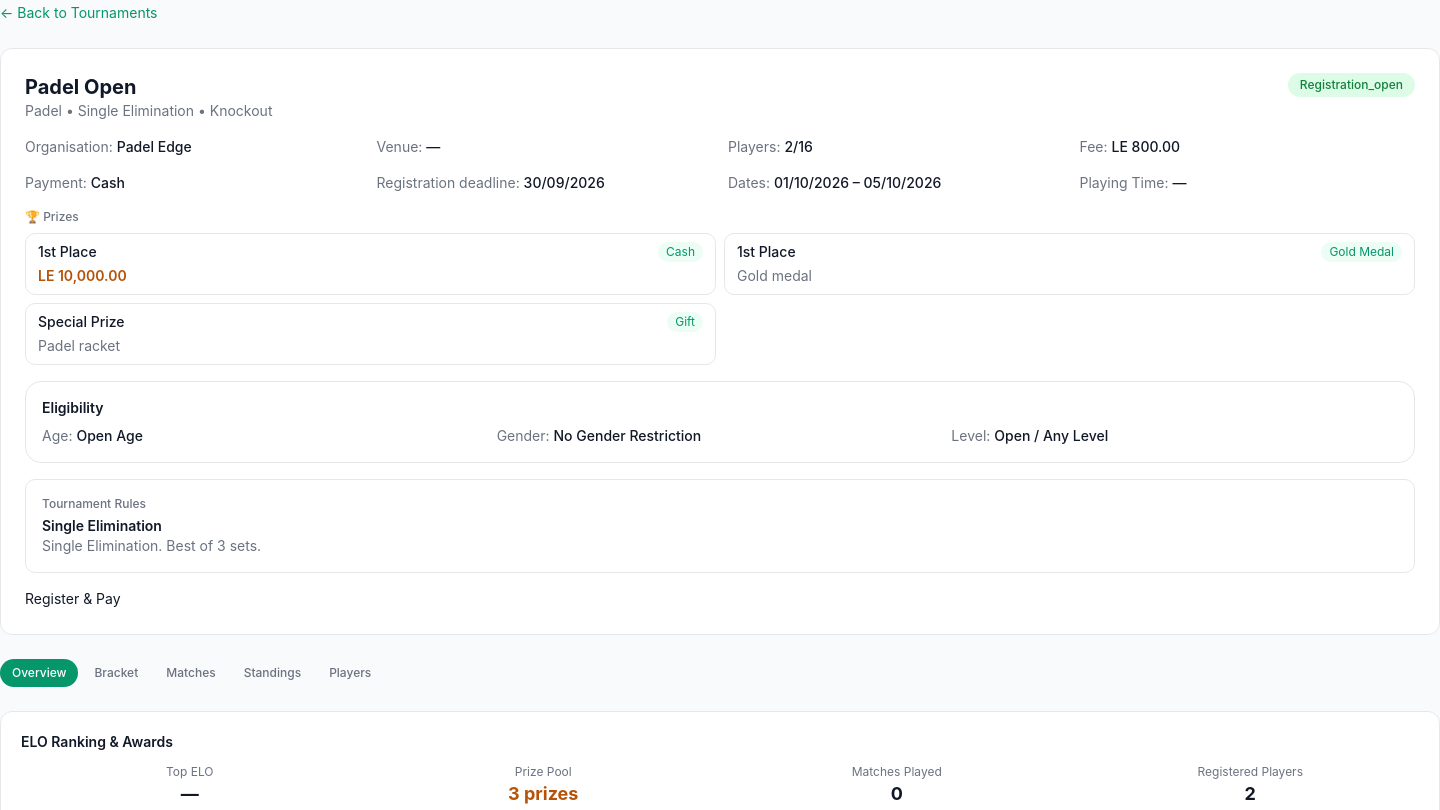
it: TournamentDetailPage — registration payment methods (Group 3) › register modal shows ONLY the effective allowed methods (cash-only — no card, no wallet)
The width and height of the screenshot is (1440, 810).
Check: the heading "Padel Open" is shown, box [25,75,136,99]
Click the button "Register & Pay" at (73, 599), box [25,589,121,609]
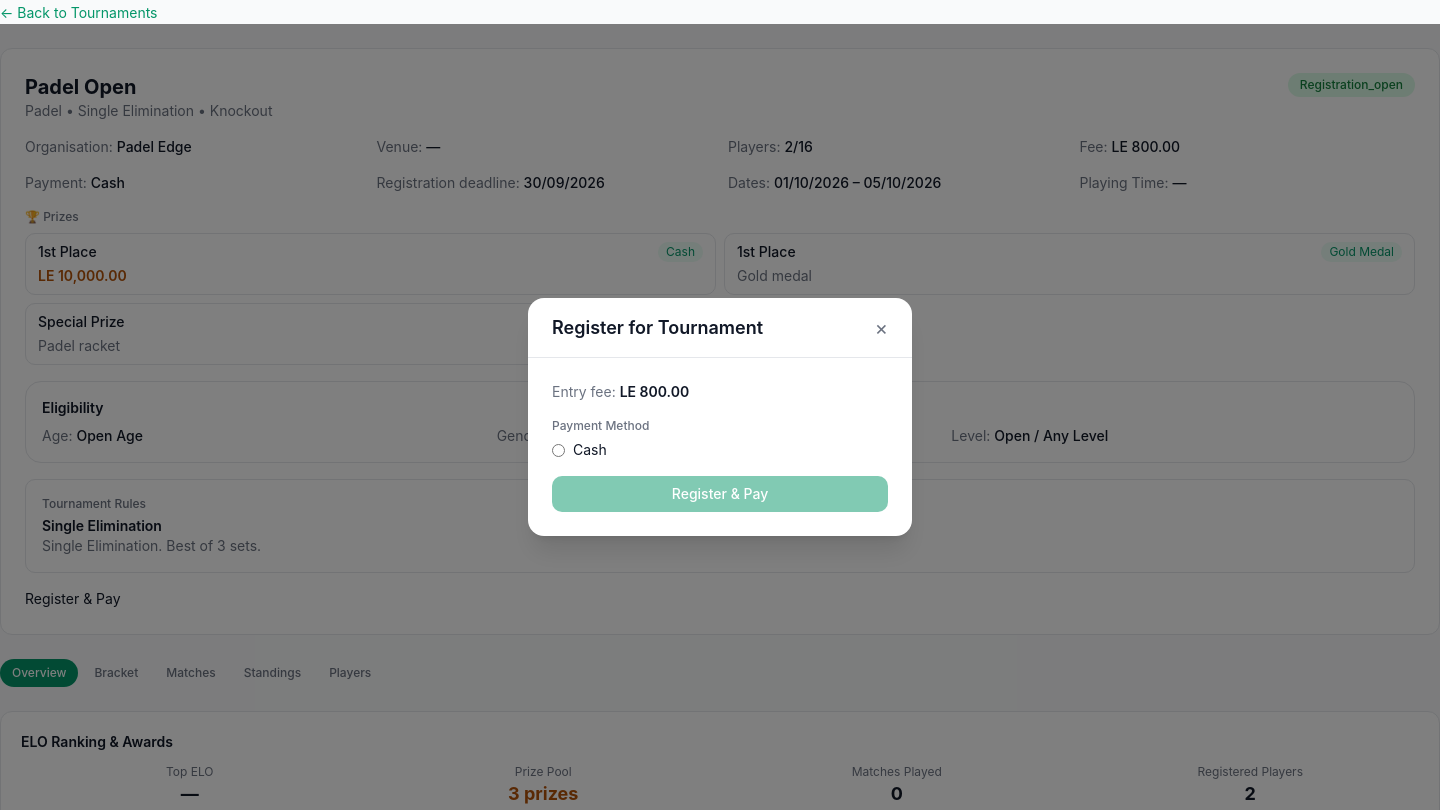
Check: the text "Payment Method" is shown, box [552,418,649,433]
Check: the number of radio buttons is 1, box [552,444,565,456]
